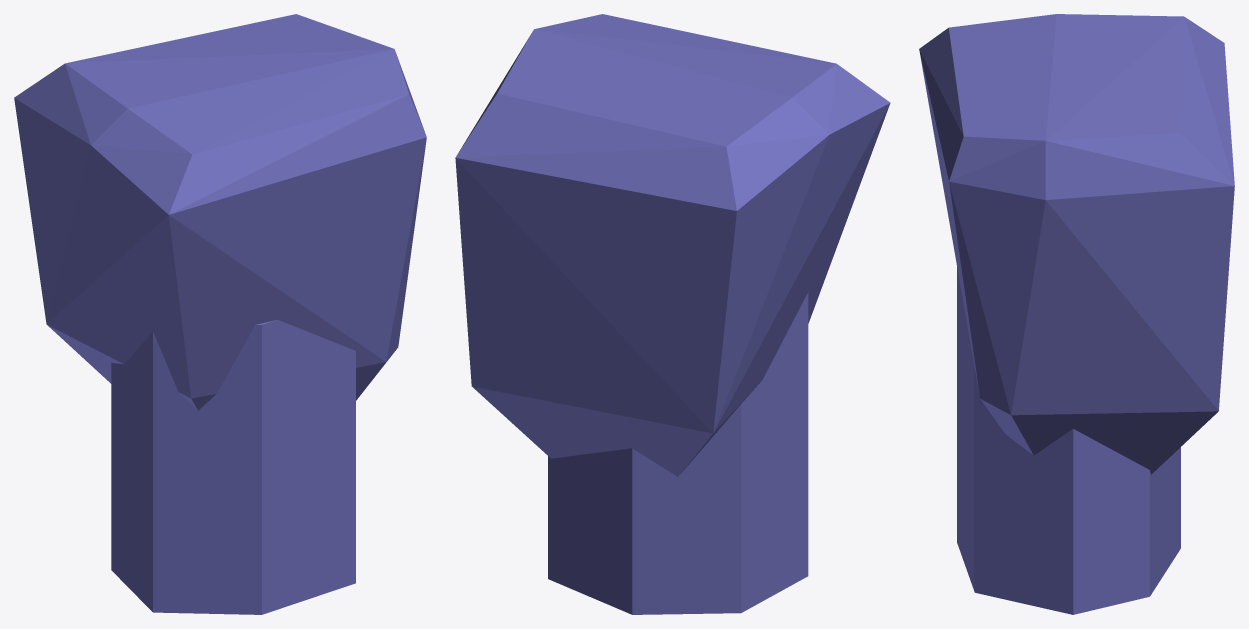
File: Cliff_Spire_06_Collider_01.FBX
The picture shows the model from 3 angles, left to right: view 1: azimuth 30°, elevation 25°; view 2: azimuth 150°, elevation 25°; view 3: azimuth 270°, elevation 25°; orthographic projection.
Parts seen in each view (by area): view 1: COLLIDER1, COLLIDER2; view 2: COLLIDER1, COLLIDER2; view 3: COLLIDER1, COLLIDER2.
Boxes of the visible parts, x1=… form: COLLIDER1: x1=14, y1=14, x2=426, y2=410; COLLIDER2: x1=111, y1=319, x2=355, y2=614; COLLIDER1: x1=455, y1=14, x2=890, y2=476; COLLIDER2: x1=548, y1=292, x2=808, y2=614; COLLIDER1: x1=919, y1=14, x2=1234, y2=474; COLLIDER2: x1=957, y1=267, x2=1180, y2=614.
Size of the model in its own units: 197 by 294 by 172.
